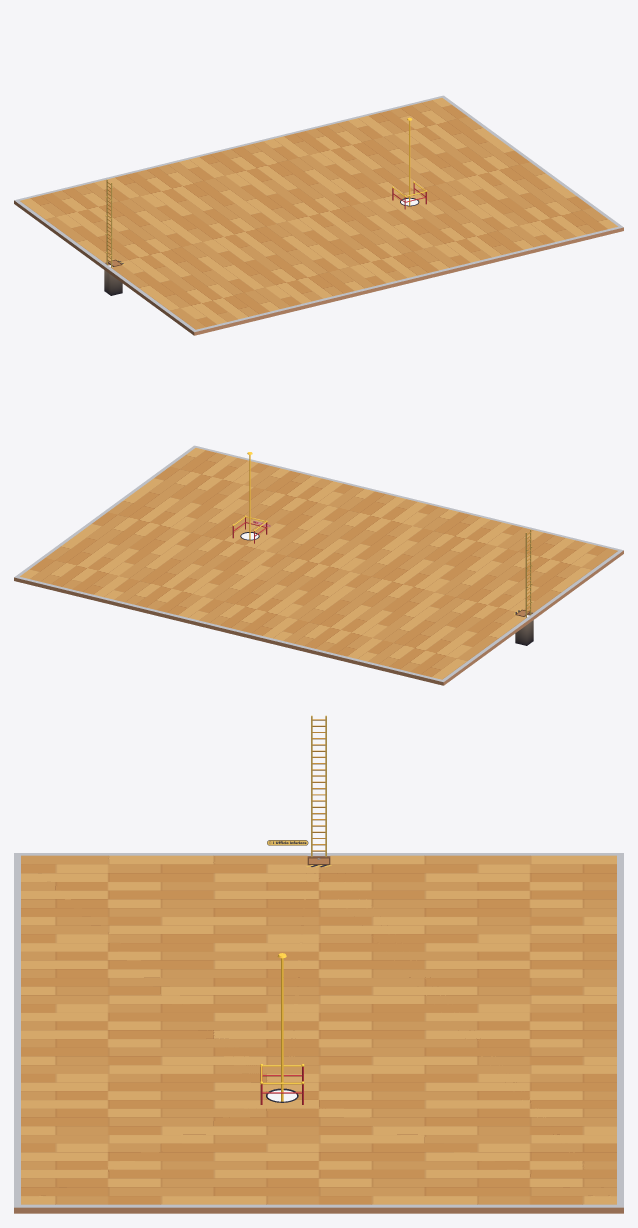
Rendered from collegamenti_ultimo.glb.
3 renders of one model, top to bottom at view 1: azimuth 30°, elevation 25°; view 2: azimuth 150°, elevation 25°; view 3: azimuth 270°, elevation 25°, orthographic. The views are drawn at different scales.
Visible parts, largest first — view 1: Collegamenti_ultimo, ladder.002, pole.002; view 2: Collegamenti_ultimo, pole.002, ladder.002; view 3: Collegamenti_ultimo, pole.002, ladder.002.
Boxes of the visible parts, left/top/right/bottom form: Collegamenti_ultimo: left=14, top=95, right=623, bottom=335; ladder.002: left=105, top=179, right=124, bottom=267; pole.002: left=392, top=117, right=427, bottom=209; Collegamenti_ultimo: left=14, top=445, right=623, bottom=685; pole.002: left=232, top=452, right=270, bottom=543; ladder.002: left=514, top=529, right=532, bottom=617; Collegamenti_ultimo: left=14, top=840, right=623, bottom=1213; pole.002: left=260, top=953, right=304, bottom=1104; ladder.002: left=306, top=715, right=331, bottom=867.
Size of the model in its own units: 36.6 by 9.1 by 26.6.
18 materials, 4 textured.
